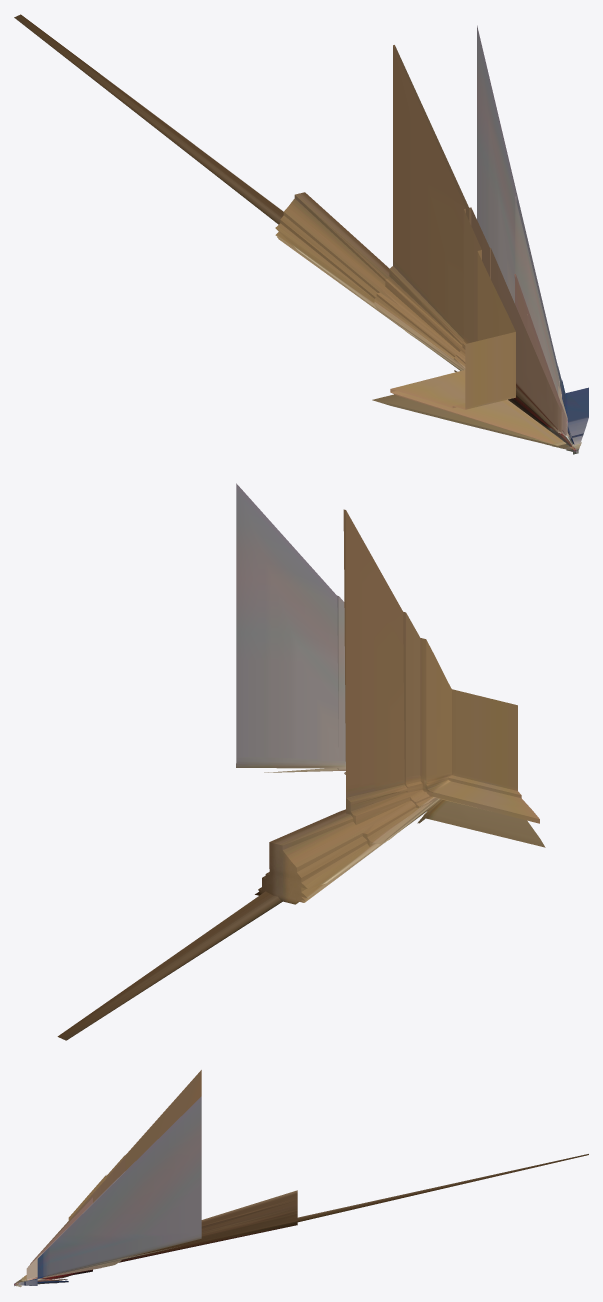
The picture shows the model from 3 angles, top to bottom: view 1: azimuth 30°, elevation 25°; view 2: azimuth 150°, elevation 25°; view 3: azimuth 270°, elevation 25°; orthographic projection. The views are drawn at different scales.
Size of the model in its own units: 58.23 by 102 by 259.
Materials: 2 (2 with a texture image).
